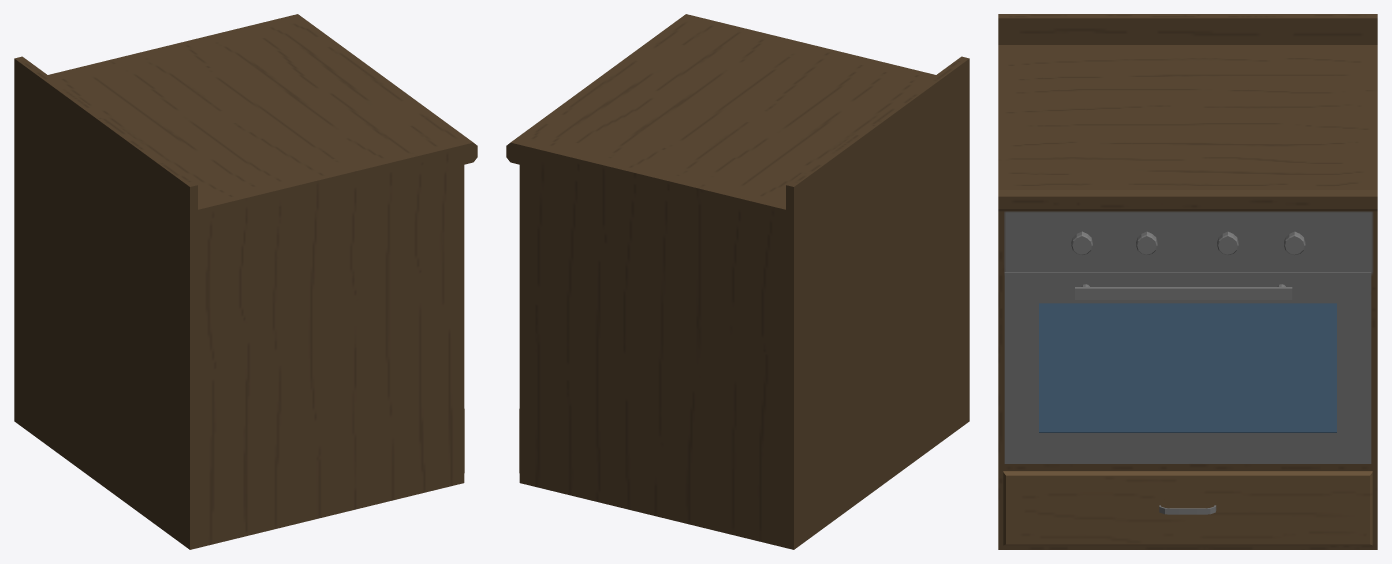
Rendered from KitchenCabinetWithOven.fbx.
3 renders of one model, left to right at view 1: azimuth 30°, elevation 25°; view 2: azimuth 150°, elevation 25°; view 3: azimuth 270°, elevation 25°, orthographic. The views are drawn at different scales.
Parts seen in each view (by area): view 1: kitchen cabinet with oven.001; view 2: kitchen cabinet with oven.001; view 3: kitchen cabinet with oven.001.
Part boxes in pixels (x1,y1,x2,y2): kitchen cabinet with oven.001: (14, 14, 477, 549); kitchen cabinet with oven.001: (506, 14, 969, 549); kitchen cabinet with oven.001: (998, 14, 1377, 549).
Size of the model in its own units: 91.42 by 110 by 96.71.
1 material, 1 textured.
